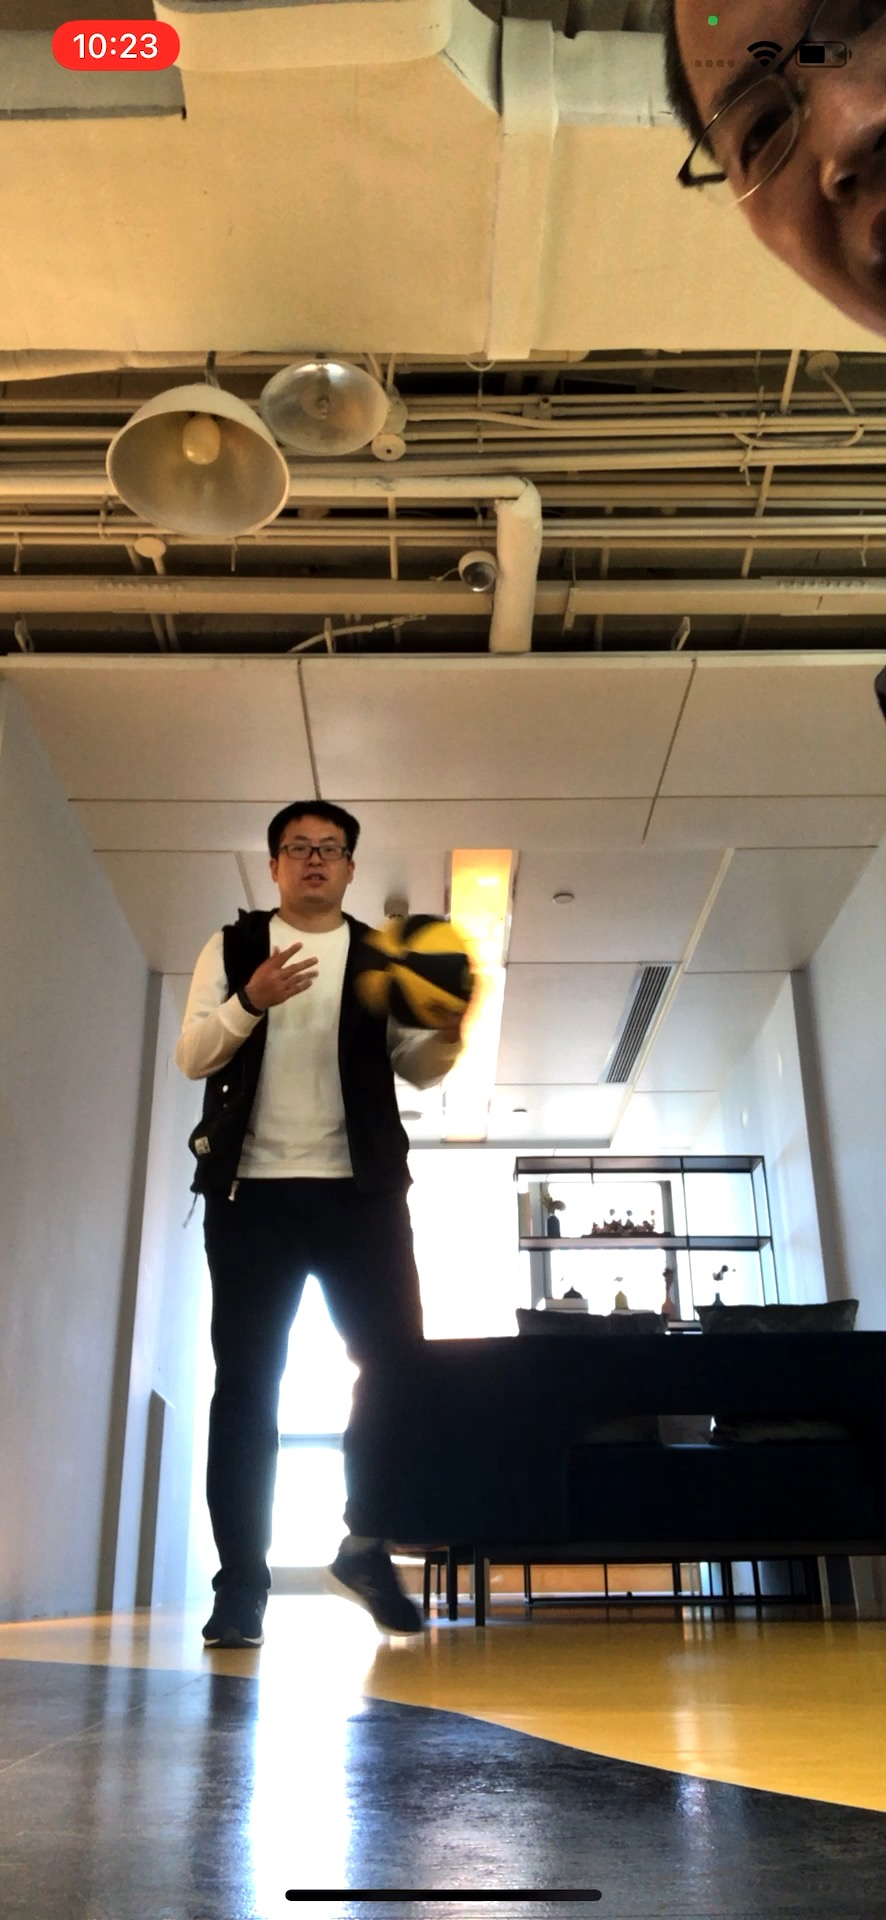ball: (359, 913, 478, 1031)
